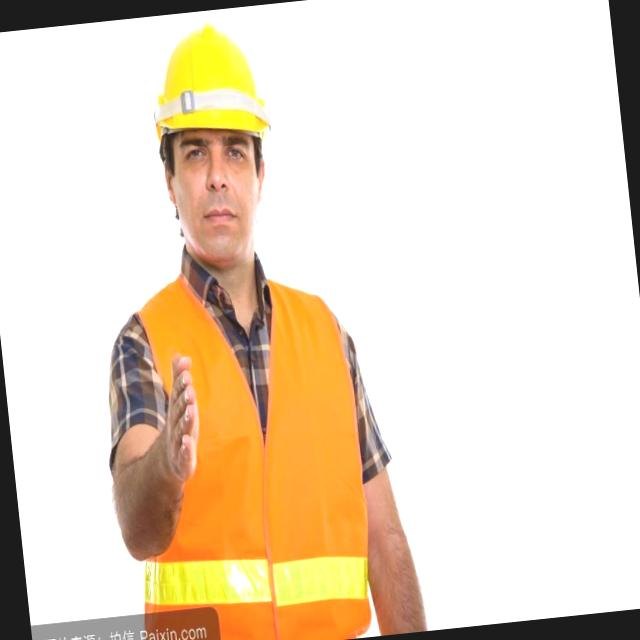helmet: (150, 22, 270, 155)
vest: (127, 268, 385, 640)
